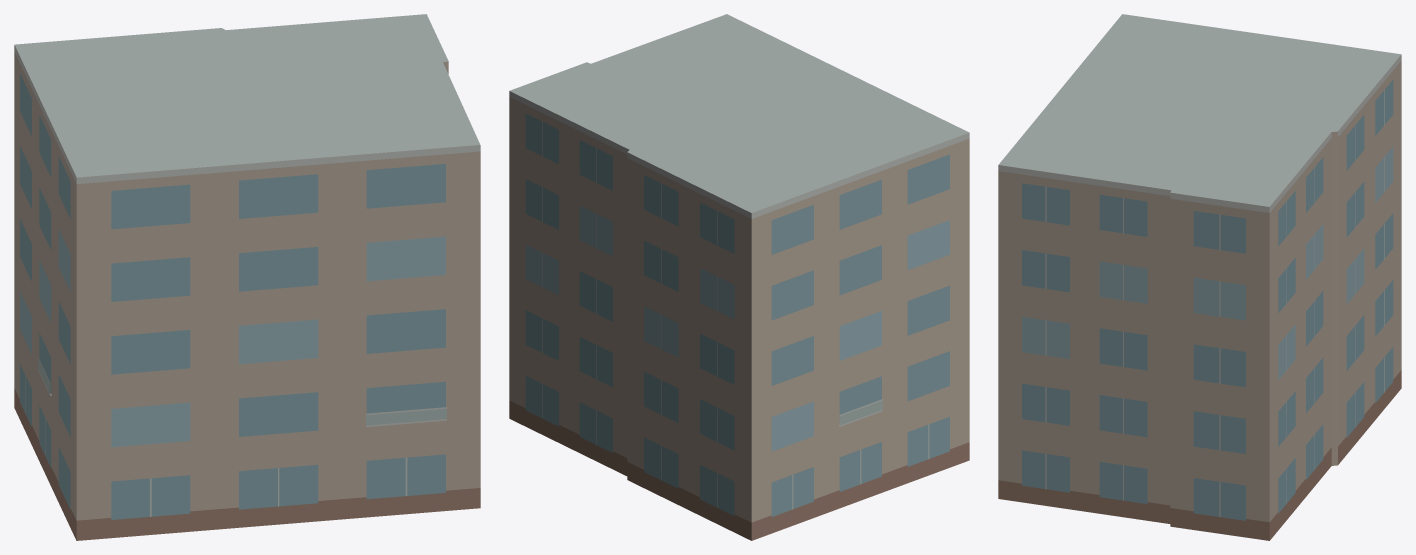
File: survey-upis-32670494.glb
3 views of the same model, side by side, from view 1: azimuth 30°, elevation 25°; view 2: azimuth 150°, elevation 25°; view 3: azimuth 270°, elevation 25° (orthographic). The views are drawn at different scales.
Visible parts, largest first — view 1: survey-upis-32670494.tmp; view 2: survey-upis-32670494.tmp; view 3: survey-upis-32670494.tmp.
Part boxes in pixels (<box>): survey-upis-32670494.tmp: <box>14,14,480,540</box>; survey-upis-32670494.tmp: <box>509,14,969,540</box>; survey-upis-32670494.tmp: <box>998,14,1401,540</box>.
Bounding box in the file's own units: 16.74 × 13.5 × 14.79.
